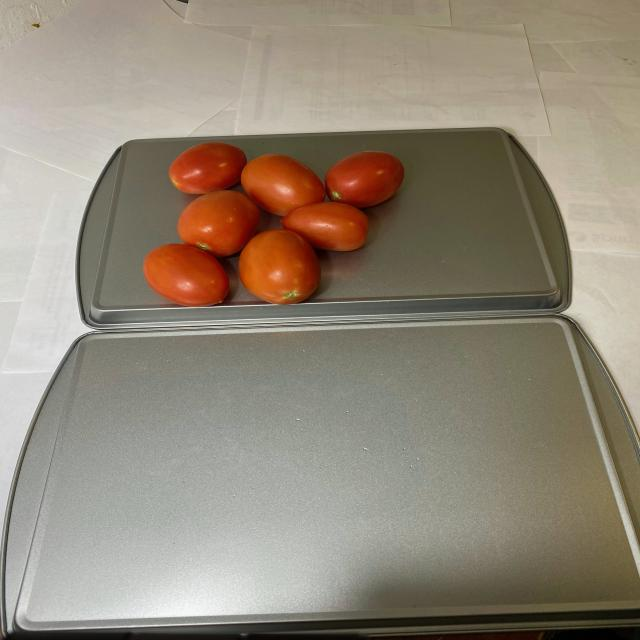tomato: (139, 142, 403, 309)
